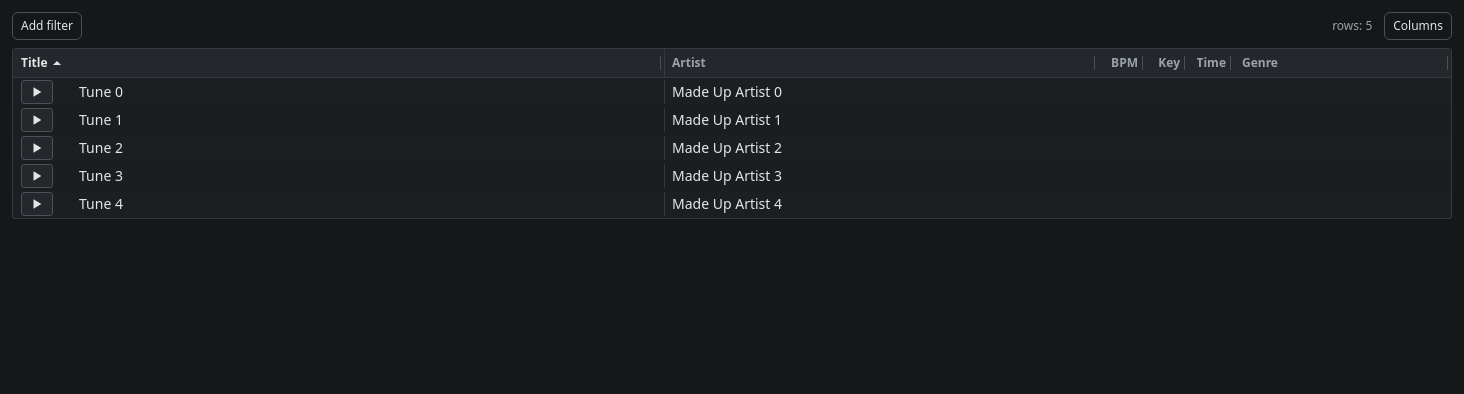
Test: filter chips › adds a chip and asks for the rows again with the filter
Click the button "Add filter".
click(47, 26)  # box [12,12,82,40]
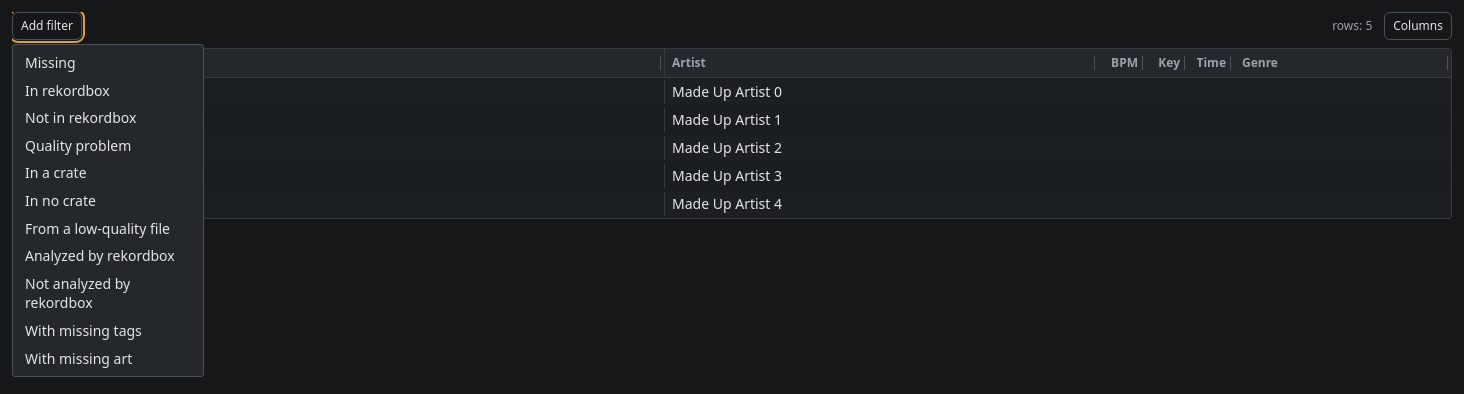
Click the button "Missing".
click(108, 63)  # box [17,49,199,77]
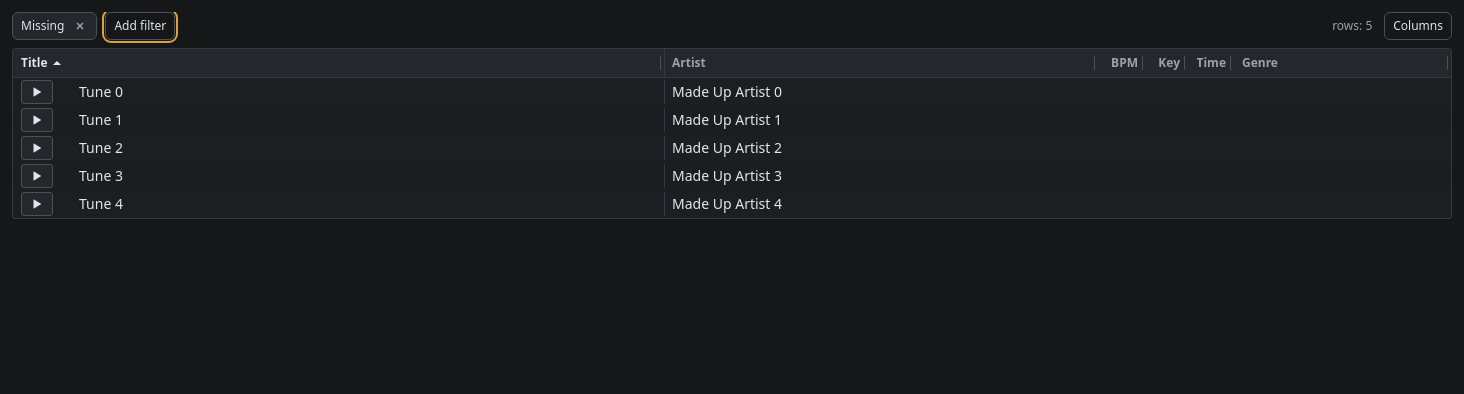
Result: the list items read "Missing", in this order at [12,12,97,40]
